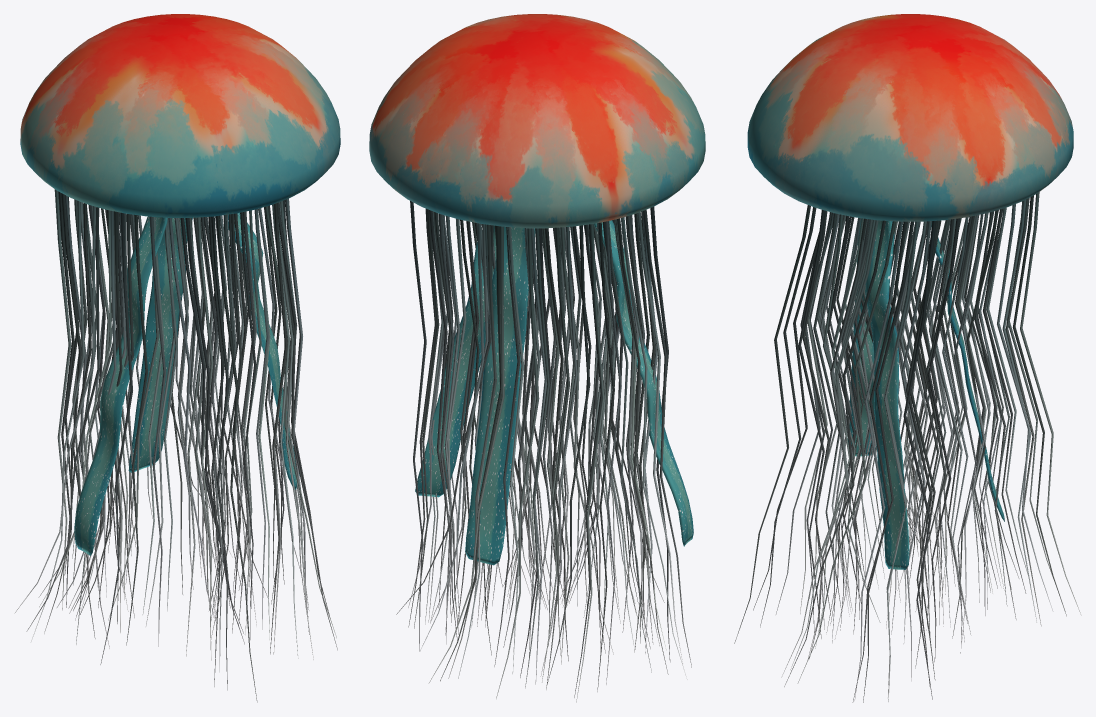
File: Jellyfish hair mesh (1).fbx
3 views of the same model, side by side, from view 1: azimuth 30°, elevation 25°; view 2: azimuth 150°, elevation 25°; view 3: azimuth 270°, elevation 25° (orthographic). The views are drawn at different scales.
Parts seen in each view (by area): view 1: Jellyfish, Object001; view 2: Jellyfish, Object001; view 3: Object001, Jellyfish.
Part boxes in pixels (x1,y1,x2,y2): Jellyfish: (20,14,340,555); Object001: (14,189,337,702); Jellyfish: (369,14,705,565); Object001: (396,201,691,702); Object001: (734,192,1081,702); Jellyfish: (747,14,1073,569).
Bounding box in the file's own units: 48.67 × 96.93 × 49.45.
